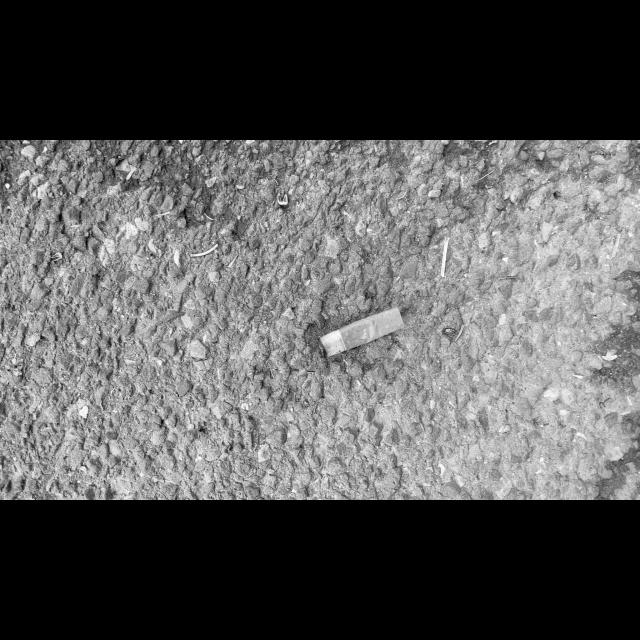cigarette: (317, 305, 405, 359)
